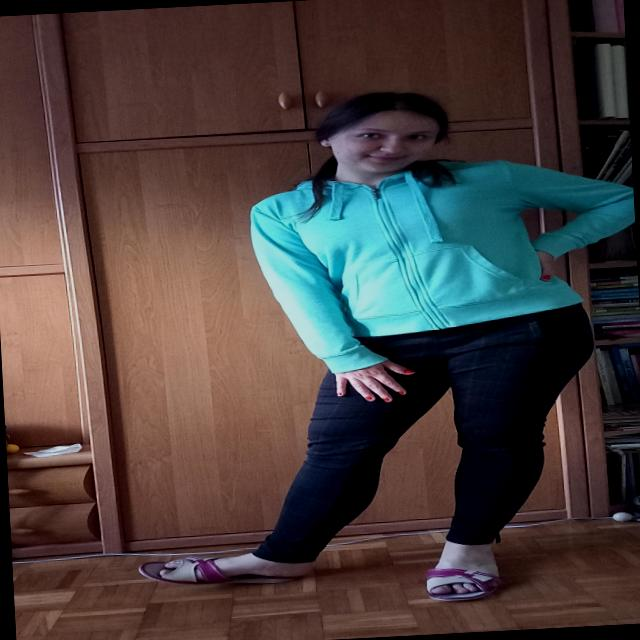pants: (240, 302, 605, 566)
sweater: (248, 152, 640, 378)
